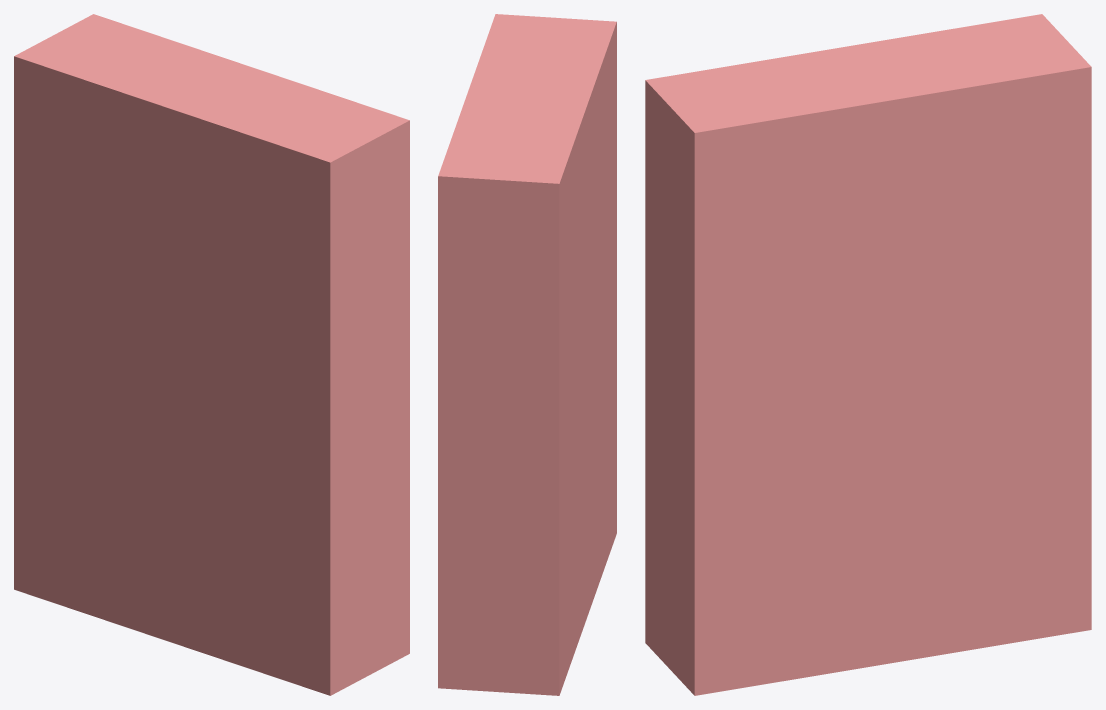
File: KPMG_Interior_event_door.glb
3 views of the same model, side by side, from view 1: azimuth 30°, elevation 25°; view 2: azimuth 150°, elevation 25°; view 3: azimuth 270°, elevation 25° (orthographic). The views are drawn at different scales.
Parts seen in each view (by area): view 1: door_collider_001; view 2: door_collider_001; view 3: door_collider_001.
Part boxes in pixels (x1,y1,x2,y2): door_collider_001: [14, 14, 409, 695]; door_collider_001: [438, 14, 616, 695]; door_collider_001: [645, 14, 1091, 695].
Bounding box in the file's own units: 2.09 × 4.61 × 3.31.
